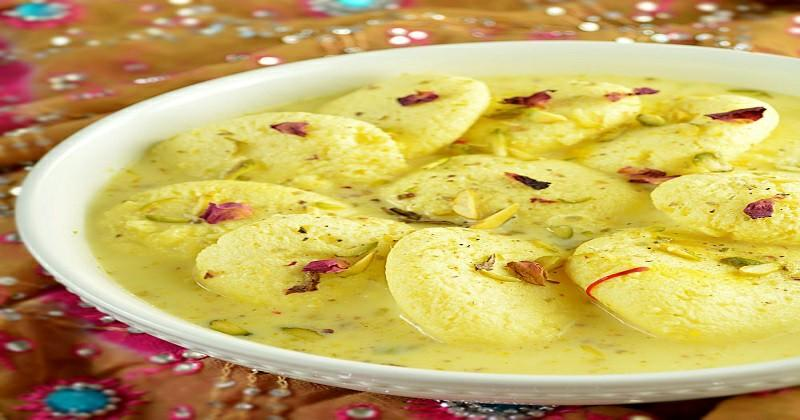RasMalai: (82, 73, 800, 371)
